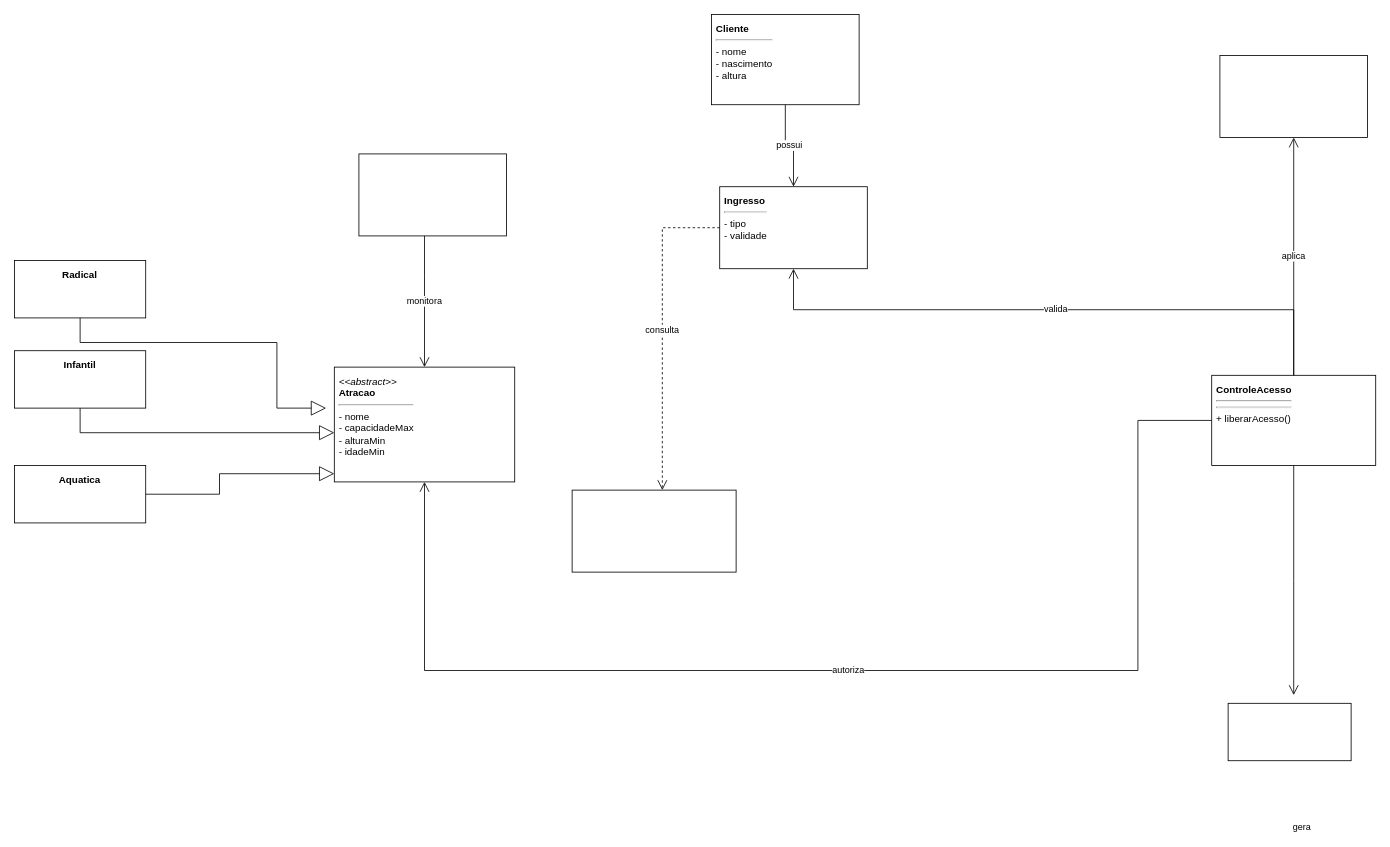
Some shapes in this 1390 by 847 pixel diagram are drawn without their labels. The shapes that lost their labels are listed below. From the top down, each one's centre as x and y in pixels, then its label:
At point (1293, 96): "Restricoes - alturaMinima - idadeMinima".
At point (432, 194): "Funcionario - nome - cargo".
At point (653, 530): "ApiPublica + consultarDados()".
At point (1289, 731): "Relatorio".
